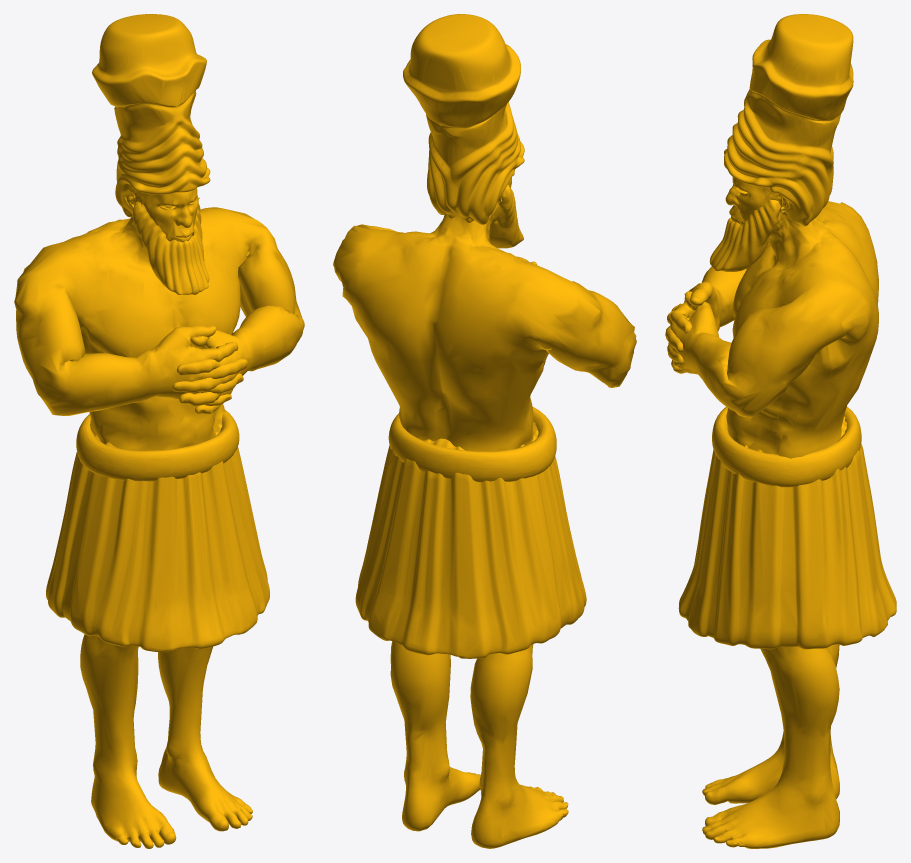
Rendered from export-scale3.glb.
The picture shows the model from 3 angles, left to right: view 1: azimuth 30°, elevation 25°; view 2: azimuth 150°, elevation 25°; view 3: azimuth 270°, elevation 25°; orthographic projection. The views are drawn at different scales.
Visible parts, largest first — view 1: Nebuchadnezzzzar; view 2: Nebuchadnezzzzar; view 3: Nebuchadnezzzzar.
Boxes of the visible parts, box(x1,y1,x2,y2) form: Nebuchadnezzzzar: box(14, 14, 304, 848); Nebuchadnezzzzar: box(333, 14, 636, 848); Nebuchadnezzzzar: box(665, 14, 896, 848).
Bounding box in the file's own units: 21.26 × 60.31 × 15.89.
1 material, 1 textured.
